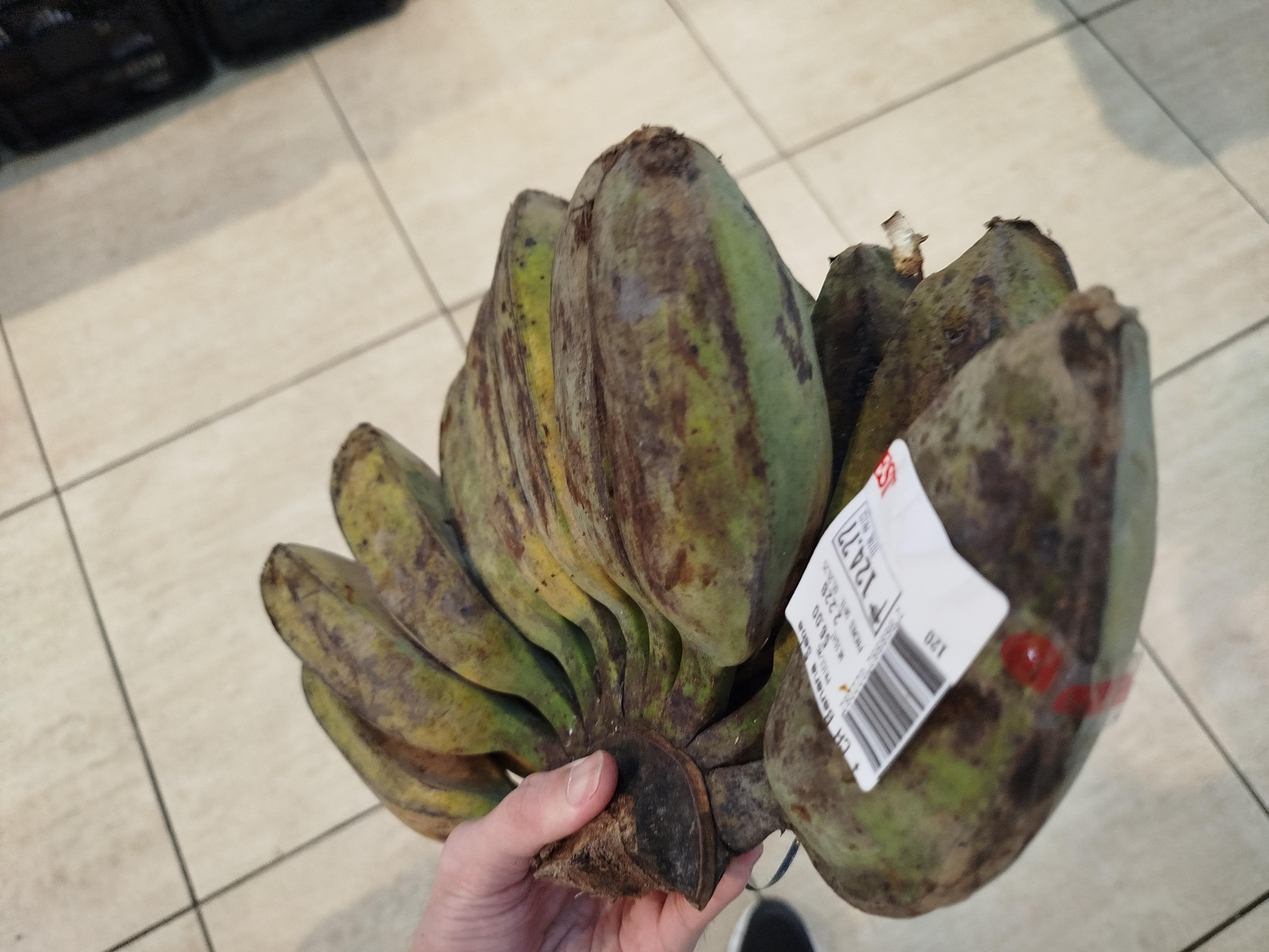underripe: (261, 126, 1157, 917)
